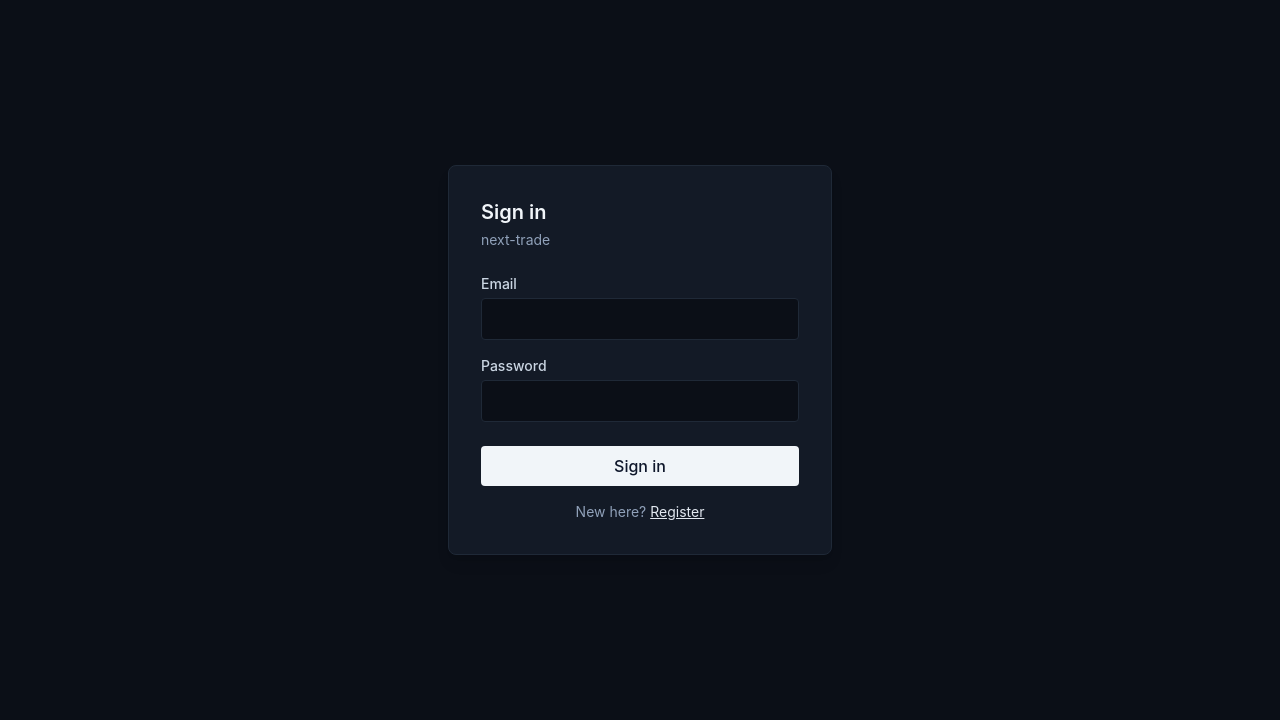
Test case: login screen › primes CSRF, logs in, and lands on the route the guard bounced from
Expected: the heading "Sign in" is shown, [481,200,546,224]
In the field labelled "Email": (640, 319) [481,298,799,340], type "trader@example.com"
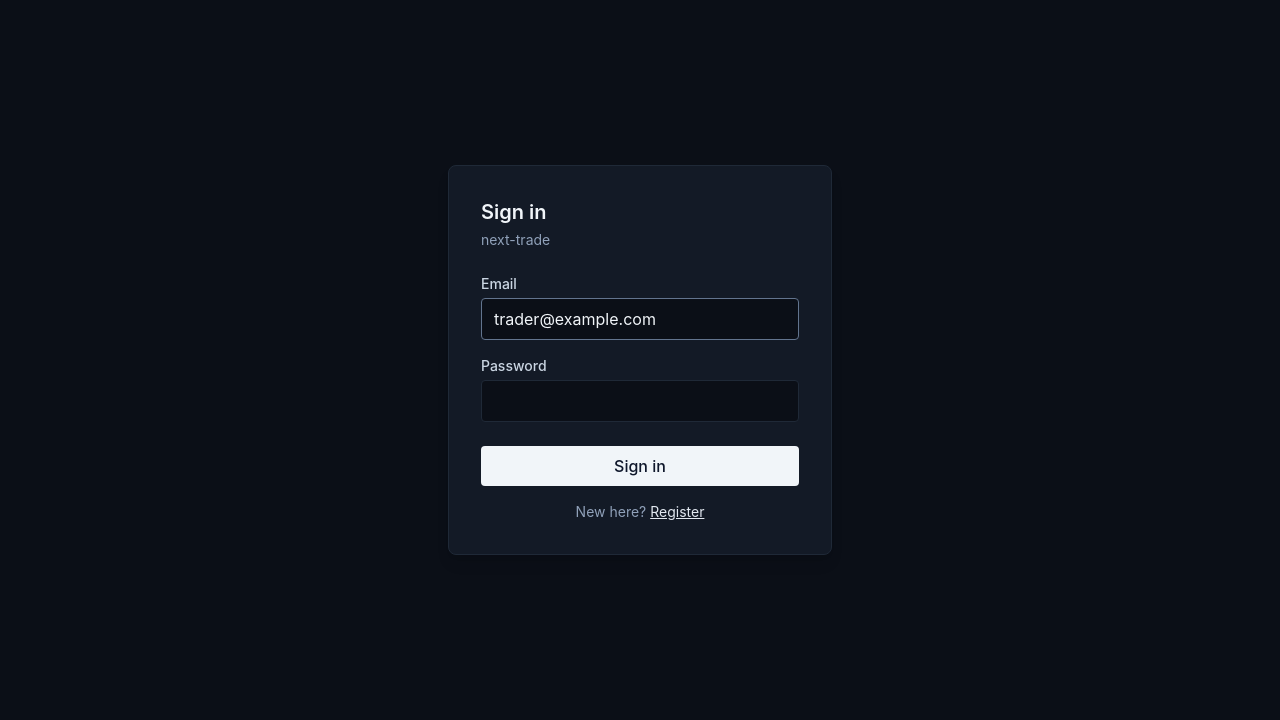
In the password field labelled "Password": (640, 401) [481,380,799,422], type "secret"
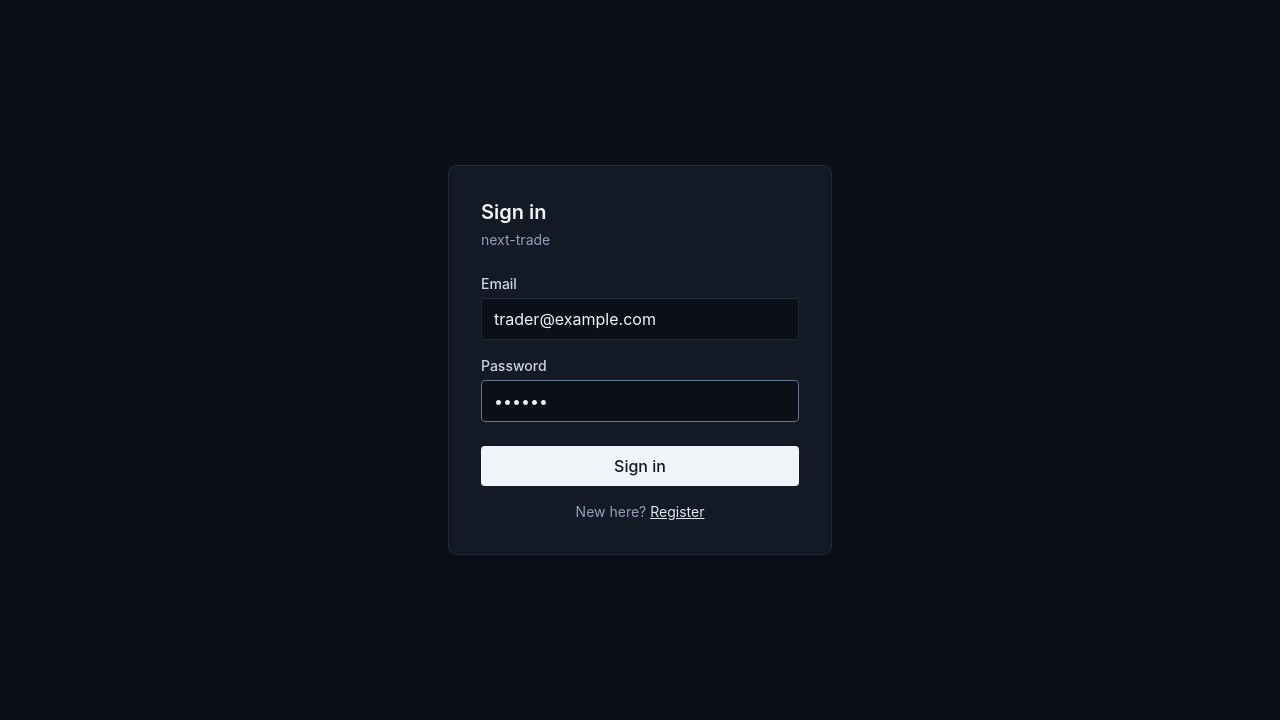
Click the button "Sign in": (640, 466) [481,446,799,486]
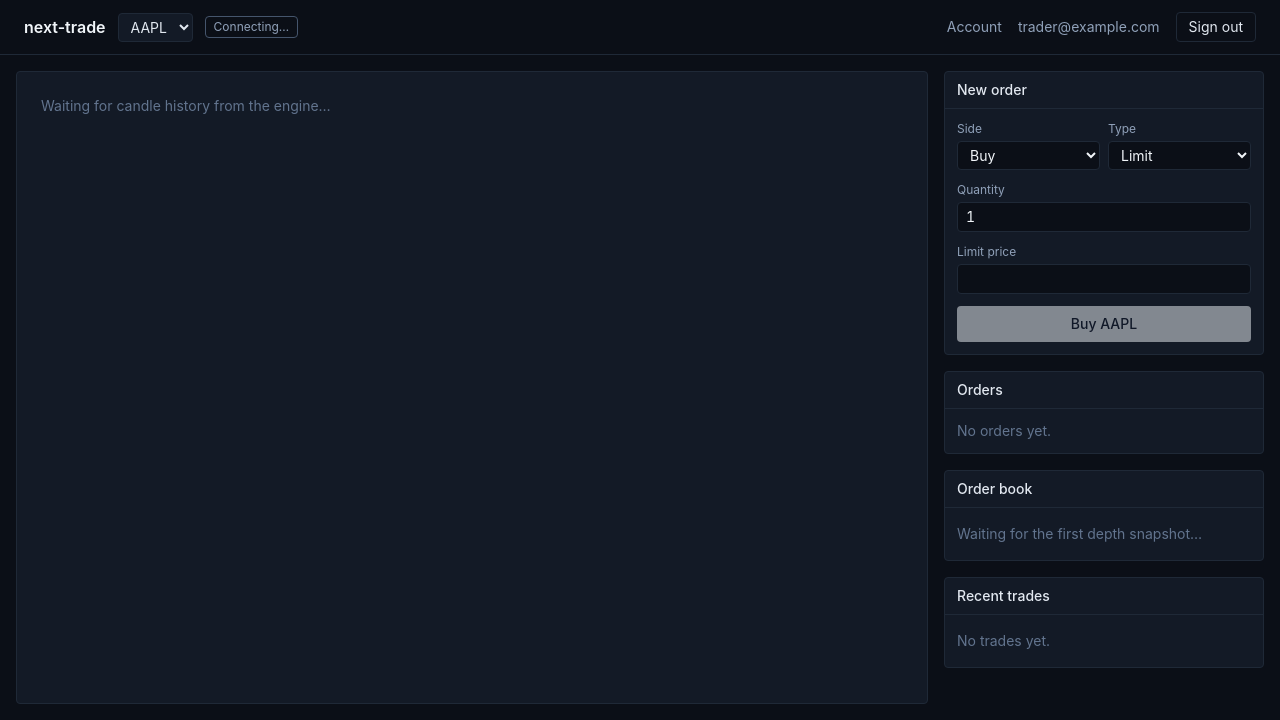
Expected: the heading "Order book" is shown, [945,471,1263,508]
